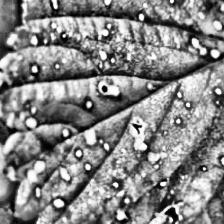Leaf Spot: (0, 0, 224, 224), (0, 0, 23, 207)
